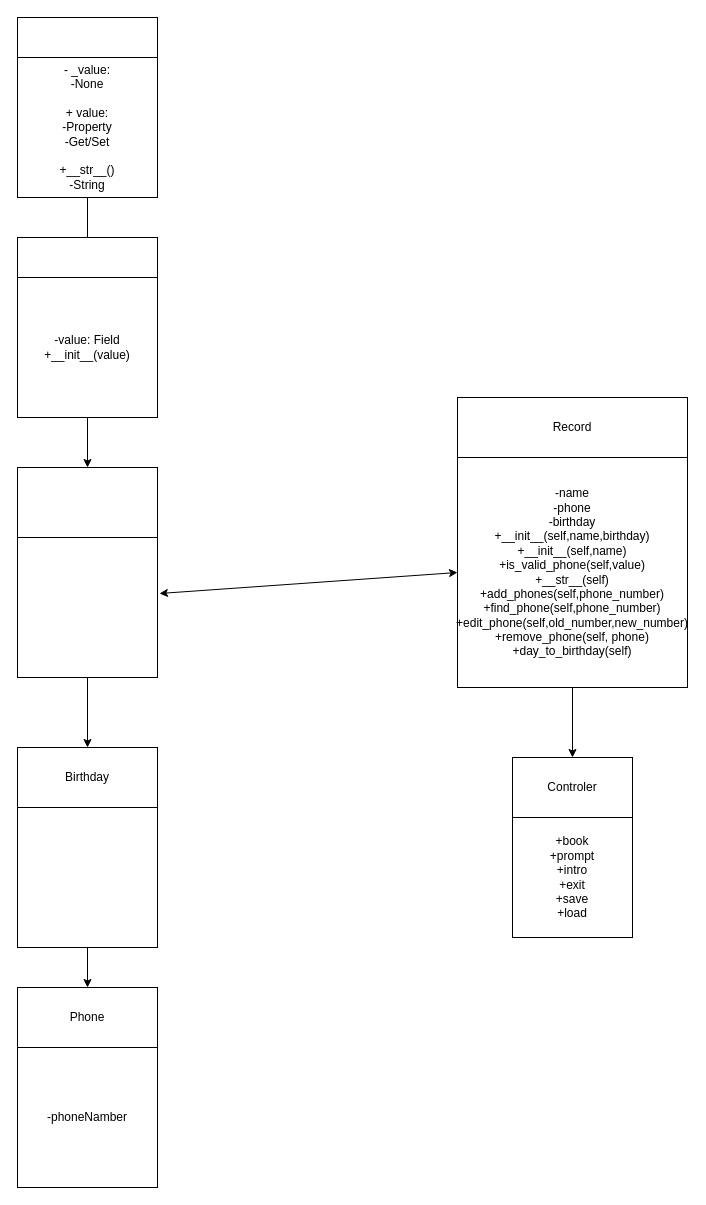
The diagram is 706 pixels wide and 1205 high, and some of its shapes have lost their labels. The shapes that lost their labels are listed below. From the top down, each one's box as (x1, y1, x2, y2) in pixels, then its label:
(16, 16, 158, 58): Field
(16, 236, 158, 278): Name
(16, 466, 158, 538): AddressBook
(16, 536, 158, 678): -record -fiend -delete -iterator -damp -load +fiend_by term
(16, 806, 158, 948): -__value: data +value:str
